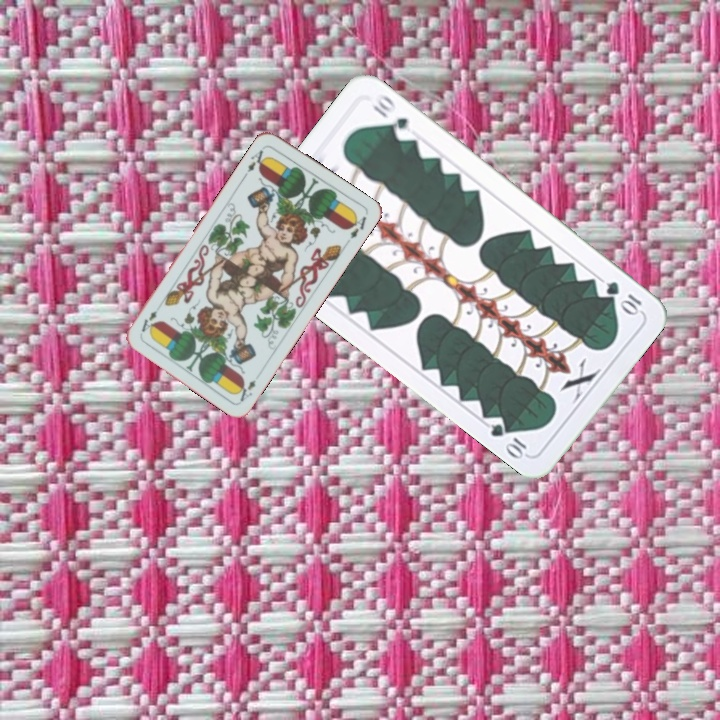EA: (240, 143, 270, 180), (233, 376, 258, 404)
G10: (602, 277, 645, 318)
